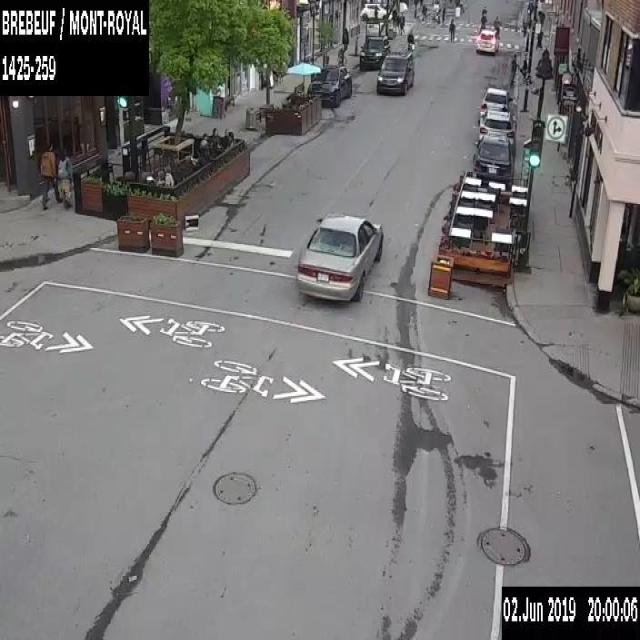cyclist: (406, 32, 414, 58)
pedestrian: (36, 136, 56, 209), (56, 146, 75, 206), (508, 49, 519, 87), (518, 52, 529, 82), (478, 4, 488, 31), (448, 16, 457, 43), (492, 14, 501, 39), (535, 26, 544, 51), (163, 165, 173, 185), (209, 127, 219, 146), (223, 127, 233, 146), (156, 168, 166, 185), (439, 2, 446, 26), (341, 27, 348, 50), (391, 7, 397, 32), (399, 10, 405, 35), (419, 1, 425, 24), (199, 132, 207, 148)
vehicle: (294, 210, 386, 302), (472, 129, 515, 173), (309, 63, 351, 108), (376, 51, 414, 96), (478, 107, 516, 145), (358, 36, 390, 70), (479, 85, 512, 117), (474, 27, 497, 54), (359, 1, 386, 23)
